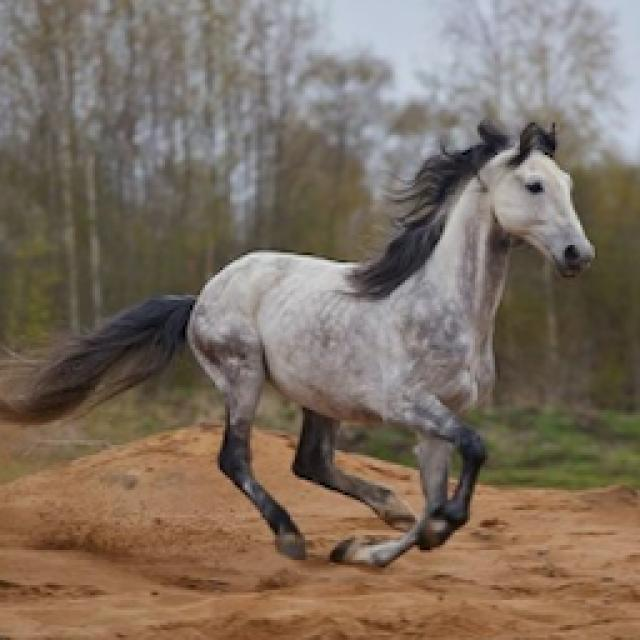Horse: (0, 112, 602, 572)
